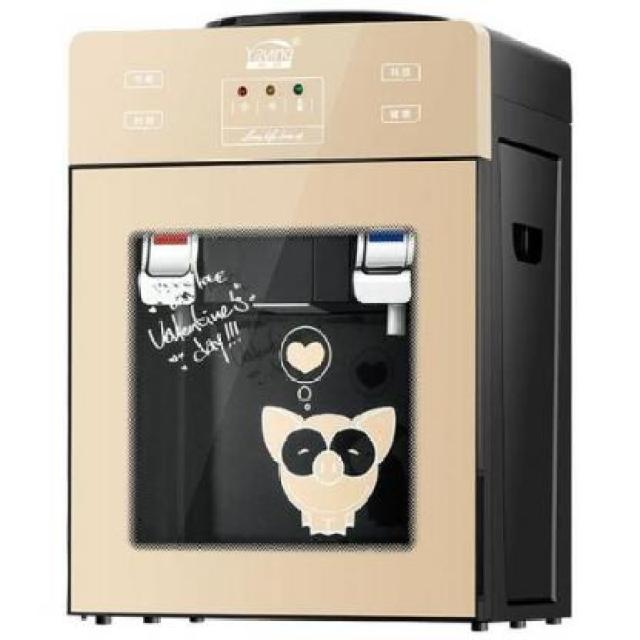cooler: (66, 12, 579, 640)
